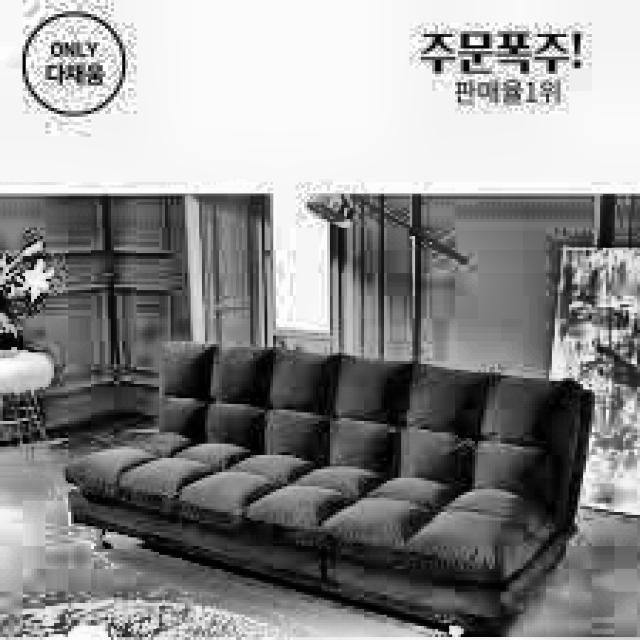sofa: (77, 338, 594, 640)
